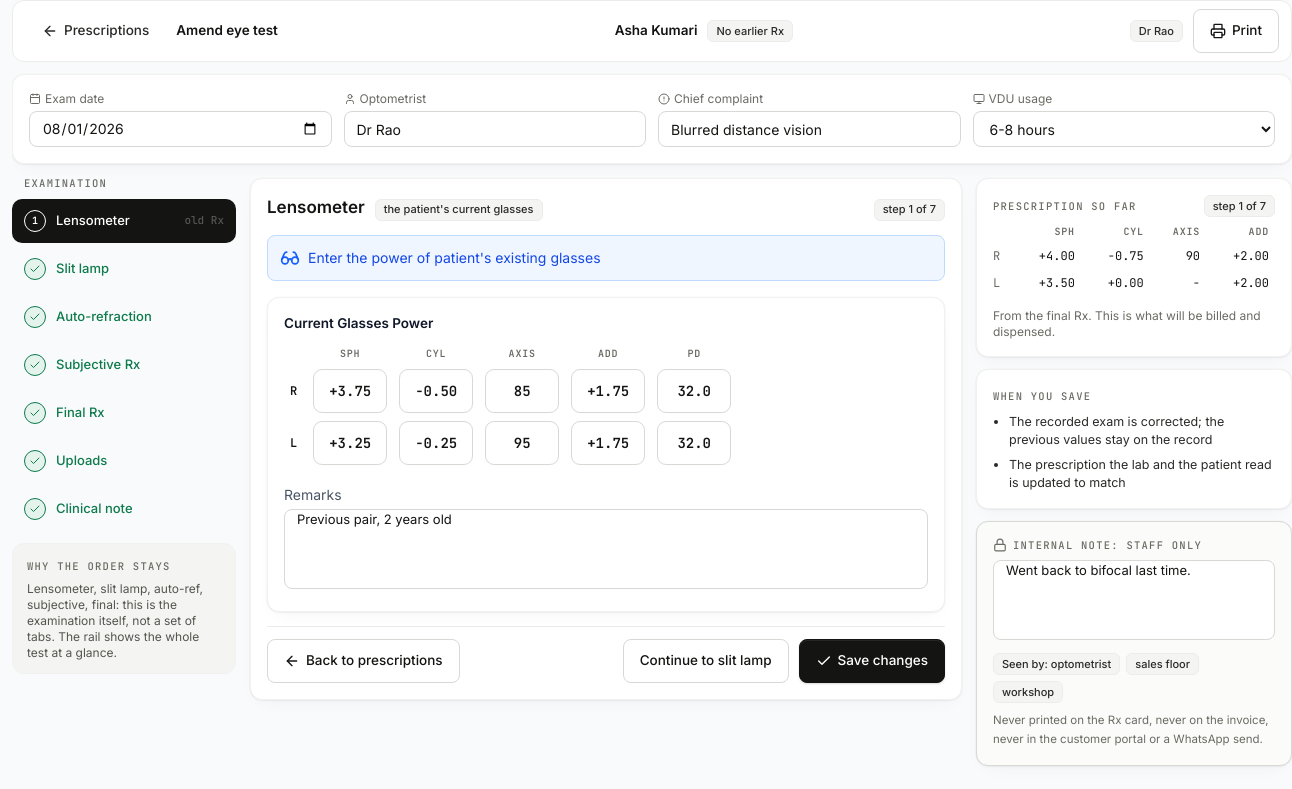
amending a completed exam (/clinical/test/amend/:testId) › PRE-FILLS the slit-lamp findings and the keratometry
Expected: the button "1 Lensometer old Rx" is shown, [12,198,236,242]
Click the button "Slit lamp": (124,268) [12,246,236,290]
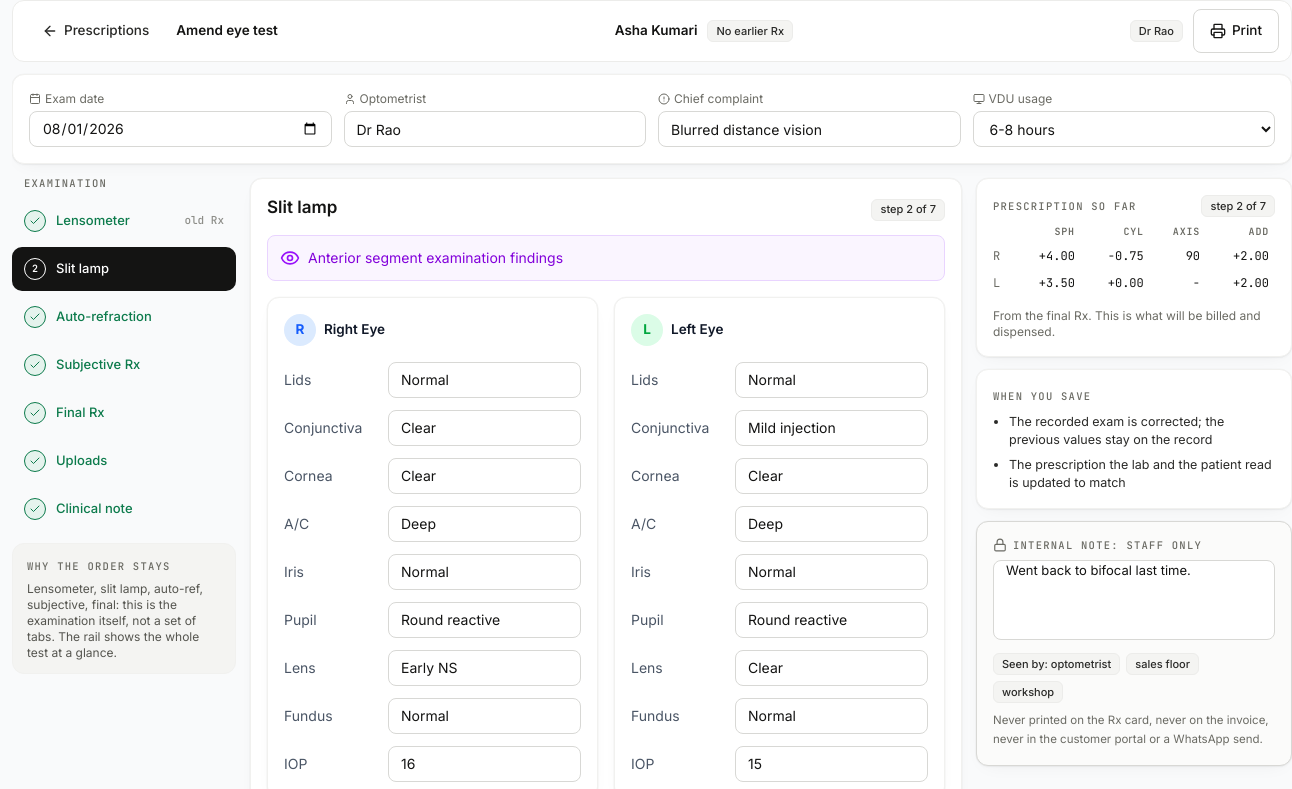
Now the 4th field showing "Mild injection" is shown, box [735,410,928,446]
Click the button "Auto-refraction": (124,316) [12,294,236,338]
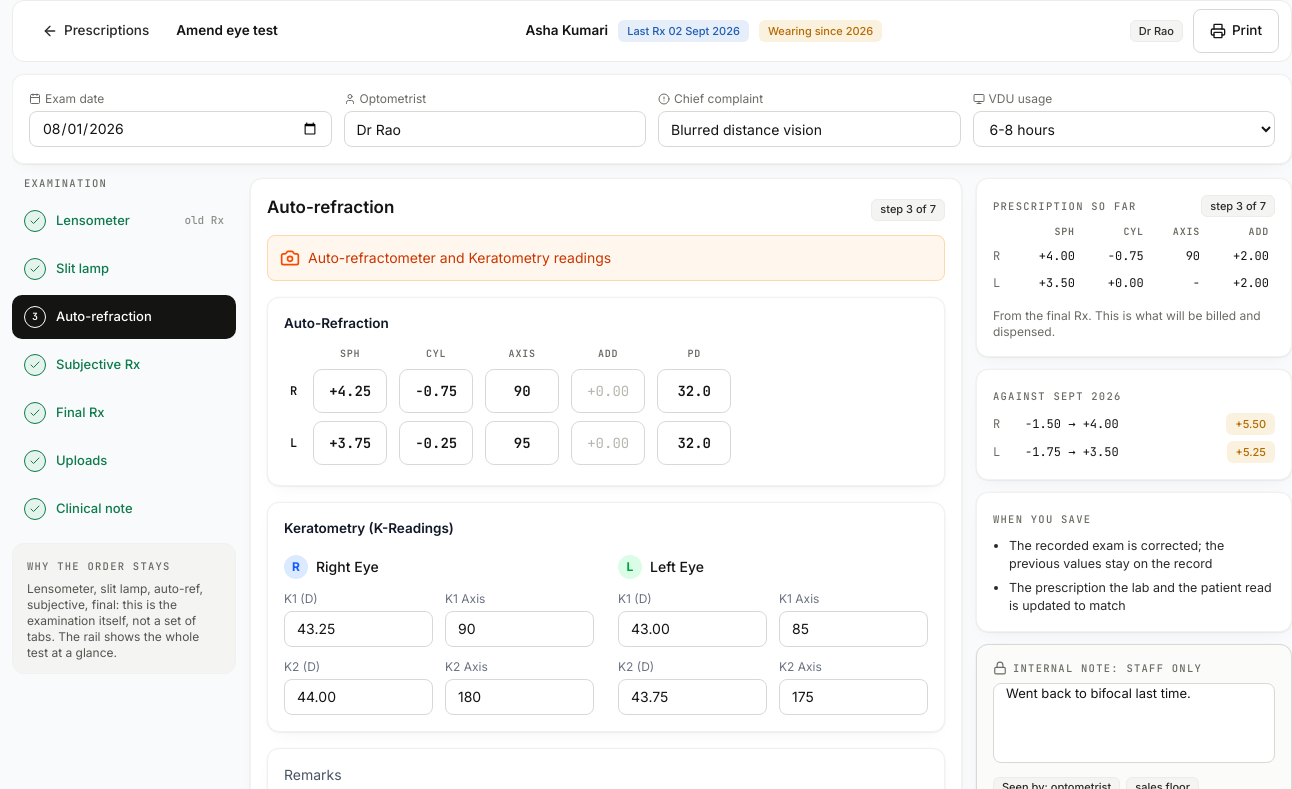
Now the field showing "43.25" is shown, box [284,611,433,647]
